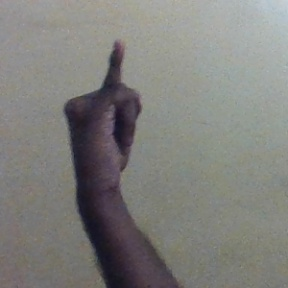I: (62, 36, 145, 177)
